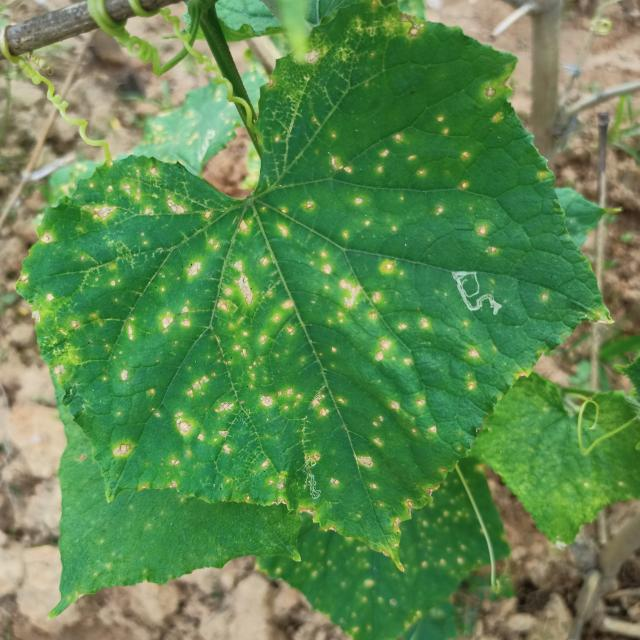disease_cucumber: (54, 61, 556, 522)
